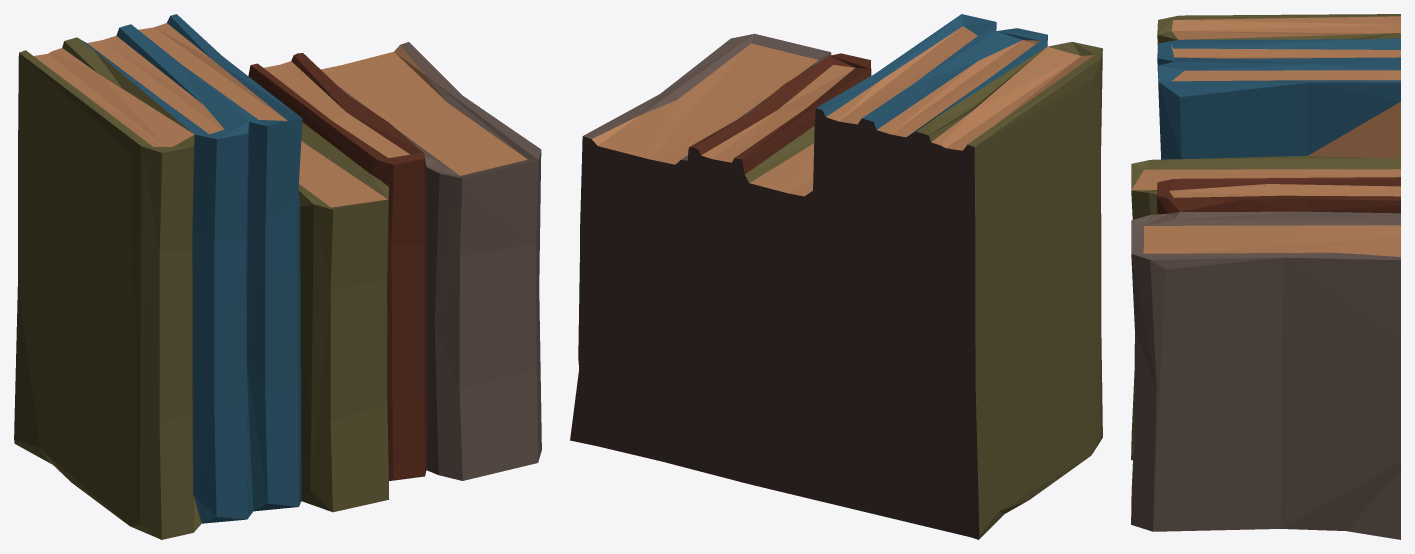
The model's file is MDungeon_BookSet_02.FBX.
The picture shows the model from 3 angles, left to right: view 1: azimuth 30°, elevation 25°; view 2: azimuth 150°, elevation 25°; view 3: azimuth 270°, elevation 25°; orthographic projection. The views are drawn at different scales.
Parts seen in each view (by area): view 1: MDgn_BookSet_02_LOD0; view 2: MDgn_BookSet_02_LOD0; view 3: MDgn_BookSet_02_LOD0.
Boxes of the visible parts, x1,y1,x2,y2 form: MDgn_BookSet_02_LOD0: (14, 14, 541, 539); MDgn_BookSet_02_LOD0: (570, 14, 1102, 539); MDgn_BookSet_02_LOD0: (1131, 14, 1400, 539).
Size of what is drawn, in the model's own units: 0.5829 by 0.5353 by 0.3731.
